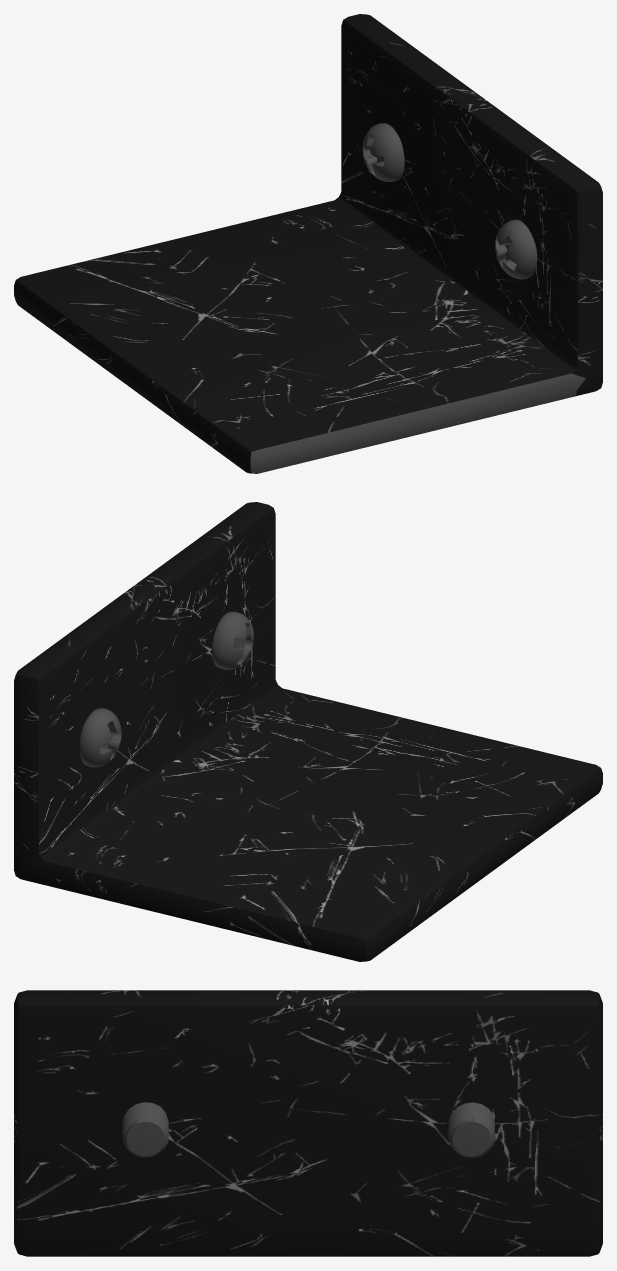
The model's file is Laser_Bracket.fbx.
3 renders of one model, top to bottom at view 1: azimuth 30°, elevation 25°; view 2: azimuth 150°, elevation 25°; view 3: azimuth 270°, elevation 25°, orthographic. The views are drawn at different scales.
Parts seen in each view (by area): view 1: Laser_Bracet; view 2: Laser_Bracet; view 3: Laser_Bracet.
Part boxes in pixels (box(x1,y1,x2,y2)): Laser_Bracet: box(14, 14, 602, 473); Laser_Bracet: box(14, 502, 602, 961); Laser_Bracet: box(14, 990, 602, 1256).
Size of the model in its own units: 21.56 by 11.18 by 23.23.
Materials: 3 (2 with a texture image).
